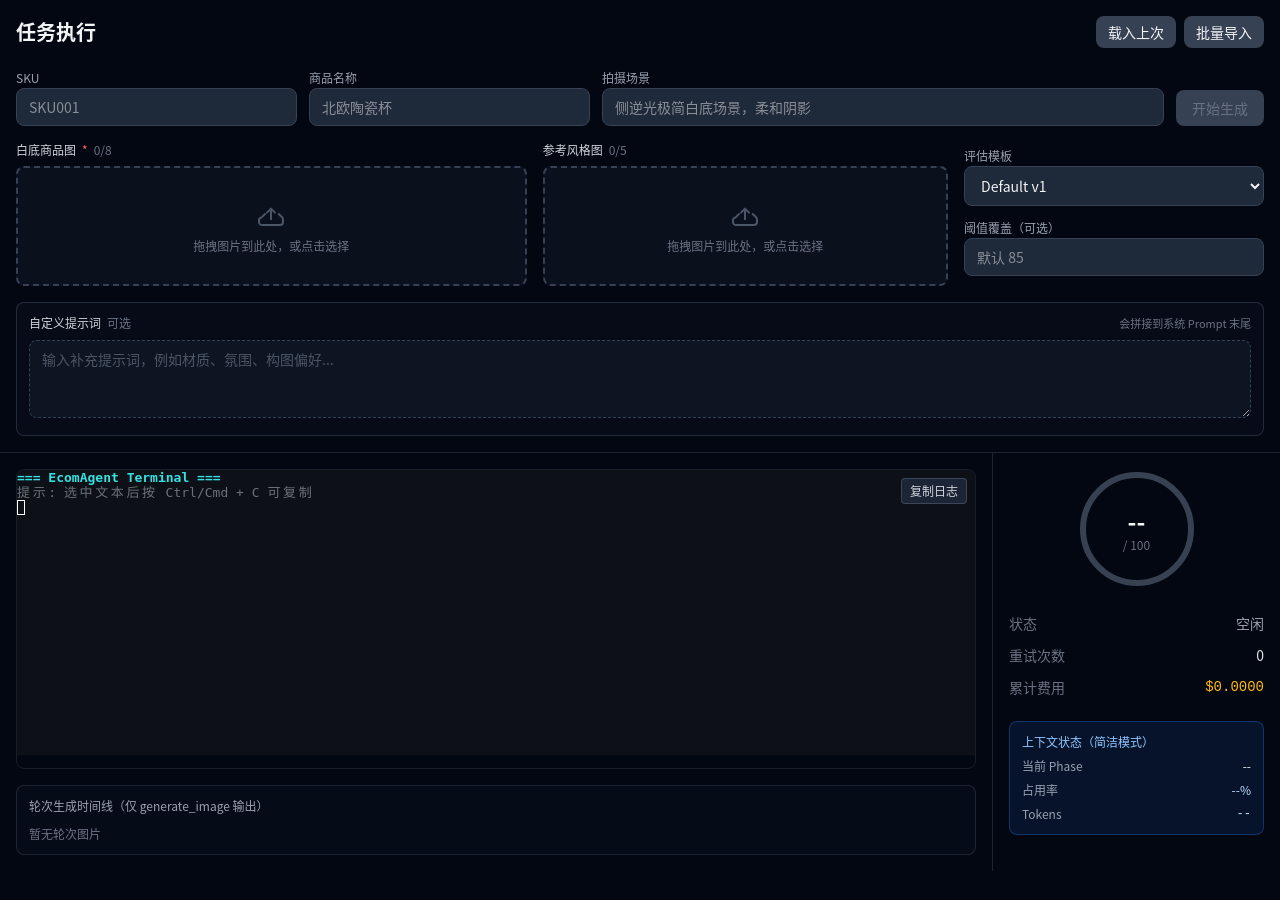
Test: TaskRun round preview timeline › loads snapshot and fills all editable fields in single-task mode
Click the button with test id "taskrun-load-last-button" at (1136, 32), box [1096,16,1176,48]
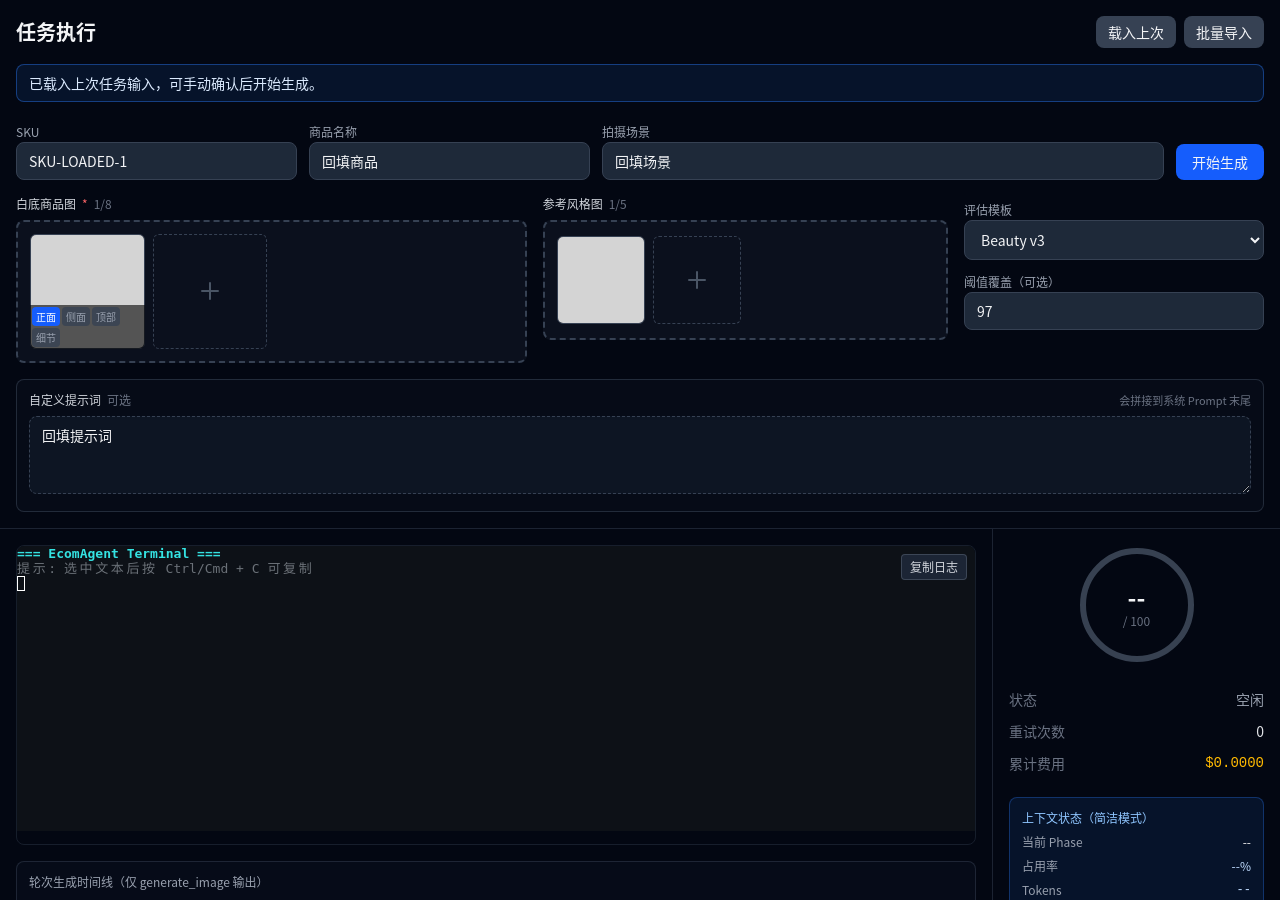
Result: the text "已载入上次任务输入，可手动确认后开始生成。" is shown at [16,64,1264,102]
Result: the field with test id "taskrun-sku-input" holds "SKU-LOADED-1" at [16,142,297,180]
Result: the field with test id "taskrun-product-name-input" holds "回填商品" at [309,142,590,180]
